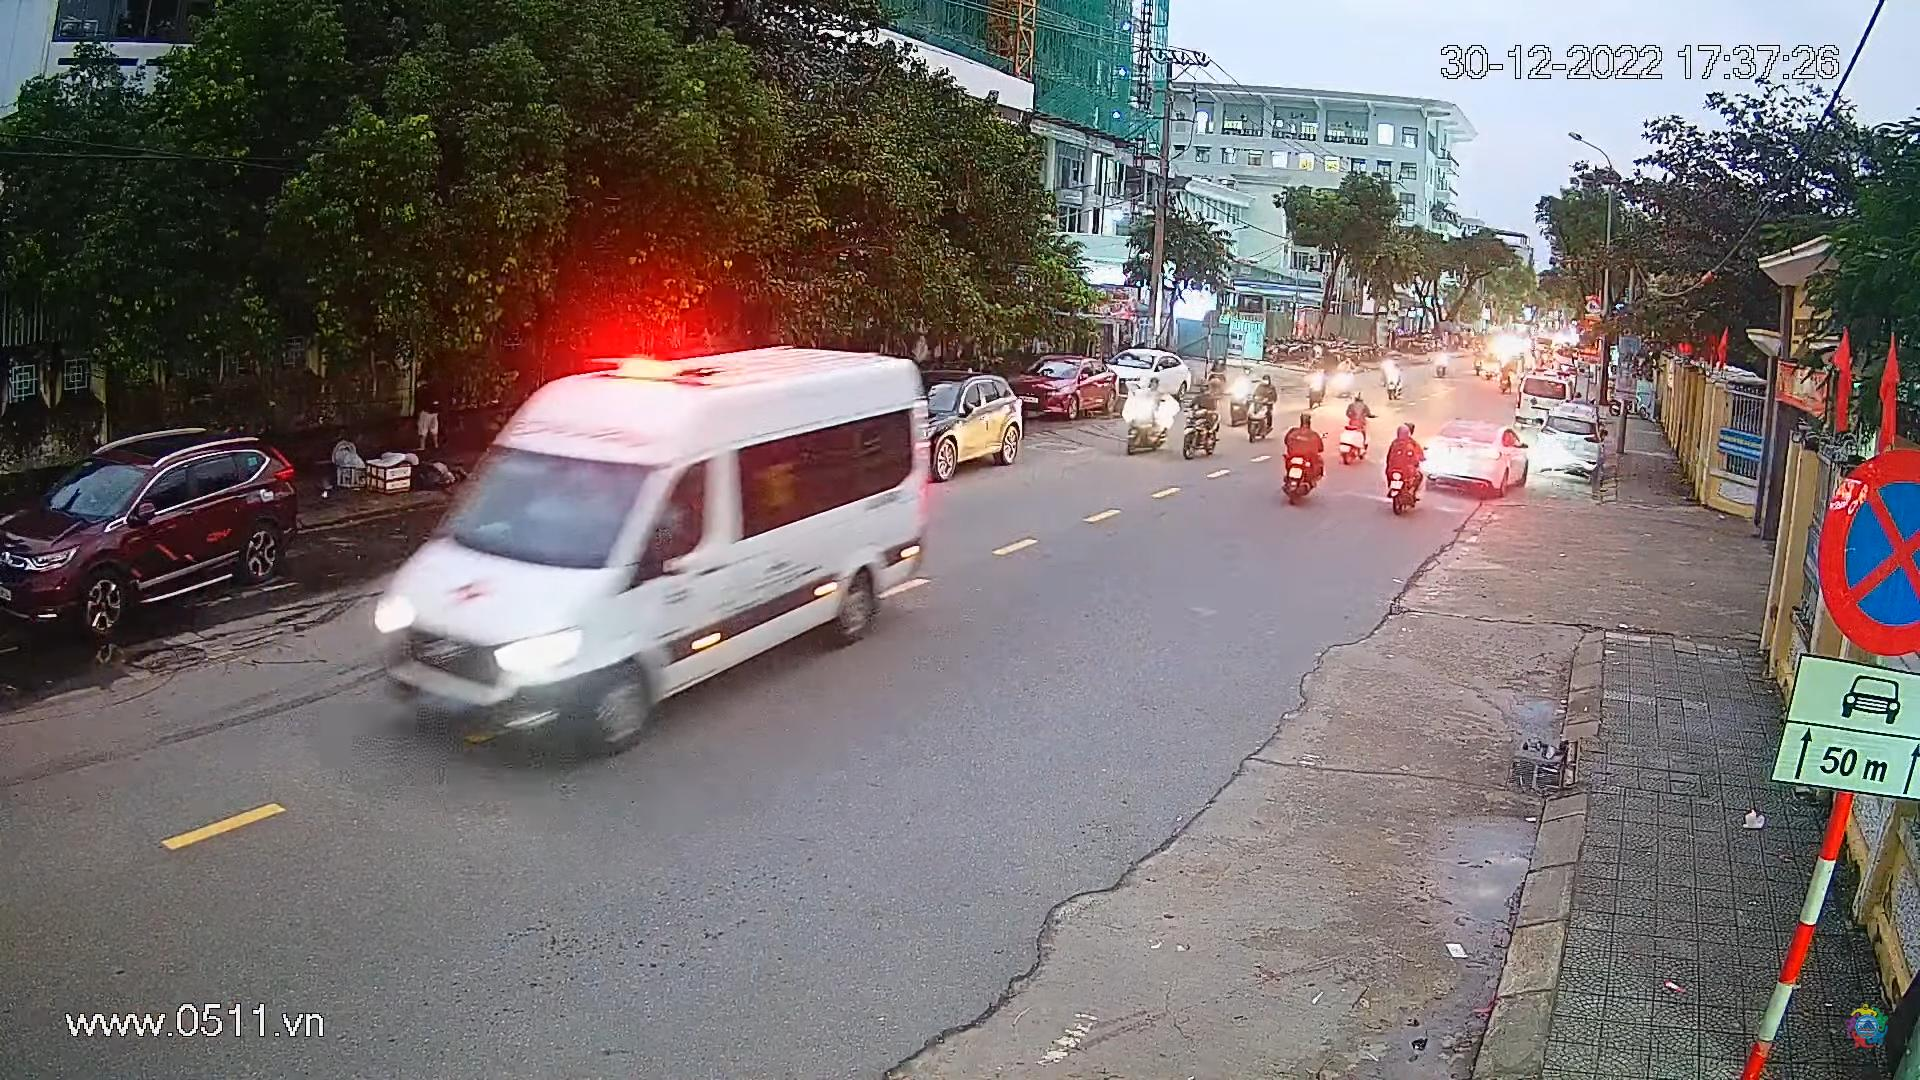ambulance: (372, 336, 936, 769)
